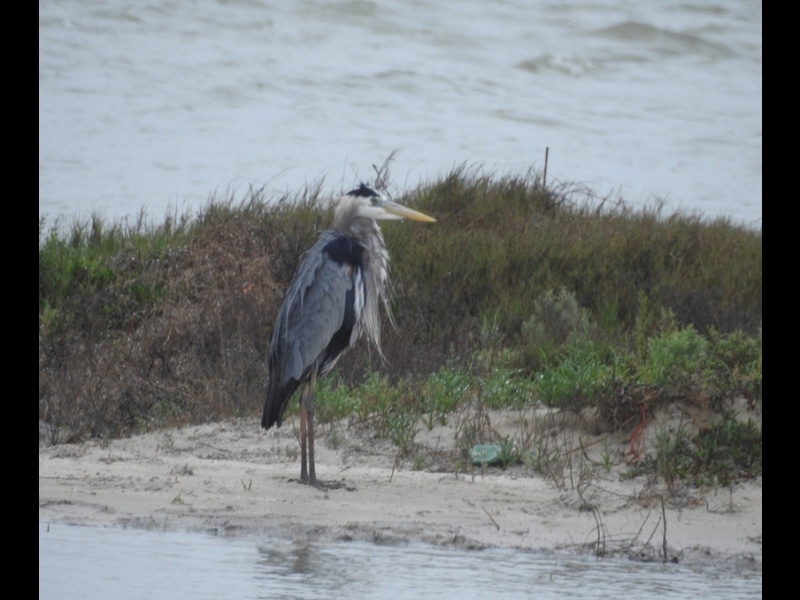heron: (262, 184, 443, 489)
